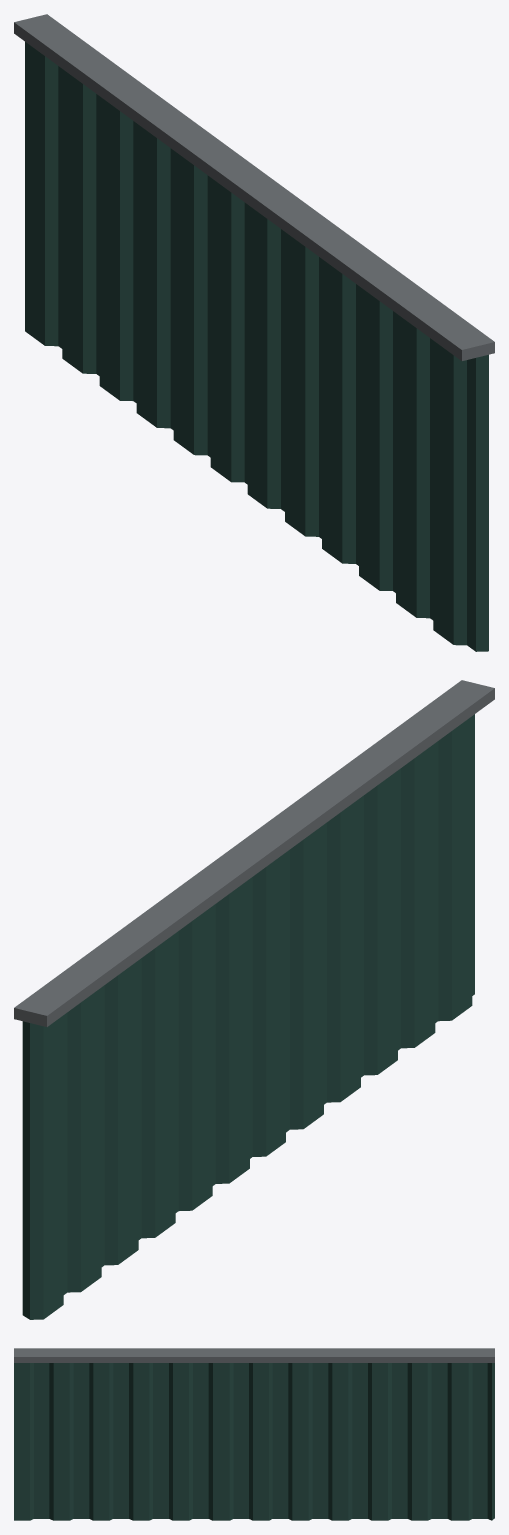
The model's file is BlueMetalWallMediumCorrugatedFencing1.fbx.
3 renders of one model, top to bottom at view 1: azimuth 30°, elevation 25°; view 2: azimuth 150°, elevation 25°; view 3: azimuth 270°, elevation 25°, orthographic. The views are drawn at different scales.
Visible parts, largest first — view 1: BlueMetalWallMediumCorrugatedFencing1; view 2: BlueMetalWallMediumCorrugatedFencing1; view 3: BlueMetalWallMediumCorrugatedFencing1.
Part boxes in pixels (x1,y1,x2,y2): BlueMetalWallMediumCorrugatedFencing1: (14, 14, 494, 651); BlueMetalWallMediumCorrugatedFencing1: (14, 680, 494, 1319); BlueMetalWallMediumCorrugatedFencing1: (14, 1348, 494, 1520).
Bounding box in the file's own units: 46.23 × 411 × 1082.
